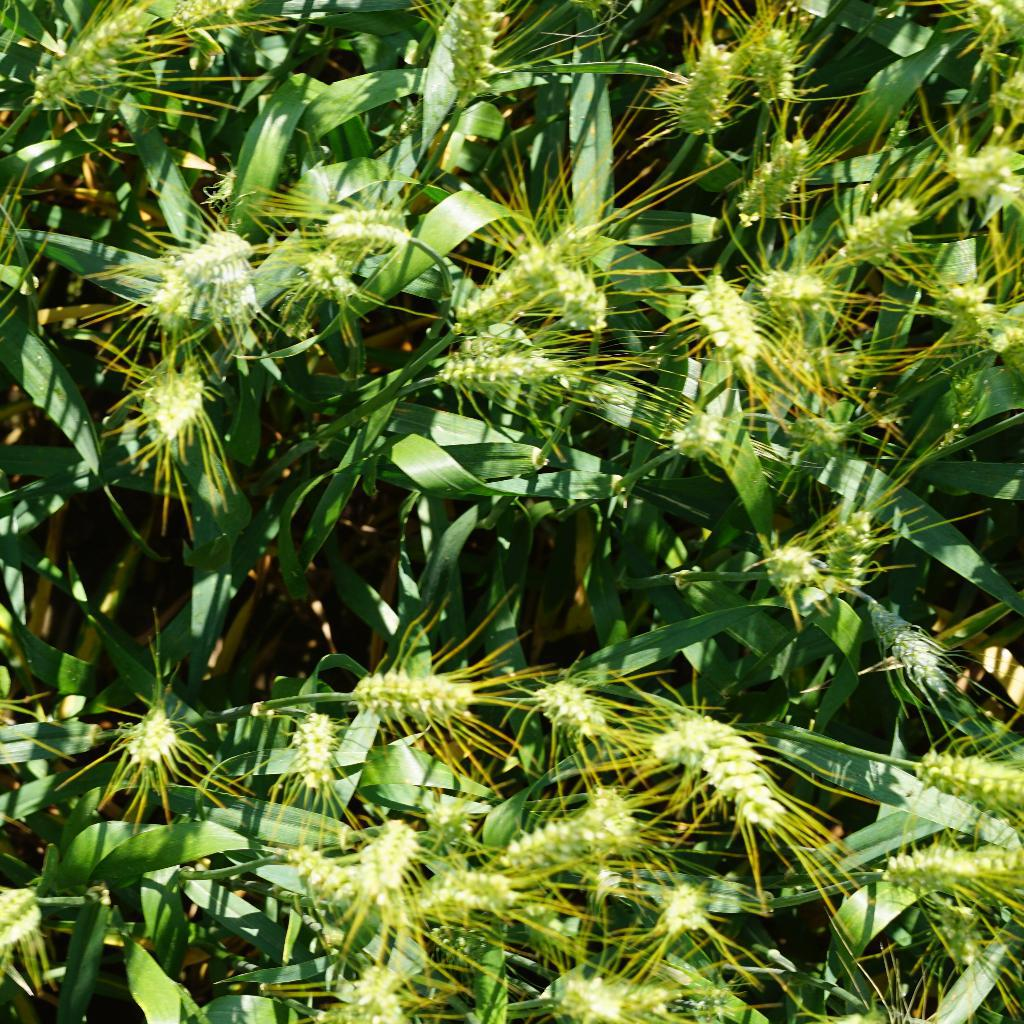0-0: (442, 222, 586, 340), (18, 0, 157, 118), (695, 718, 795, 840), (489, 796, 641, 872), (330, 658, 494, 728), (273, 851, 400, 930), (682, 266, 770, 379), (901, 740, 1024, 820), (514, 245, 606, 351), (715, 333, 871, 393), (728, 135, 813, 242), (862, 593, 948, 696), (669, 44, 743, 162), (824, 196, 929, 277), (403, 350, 580, 395), (449, 0, 504, 125), (815, 509, 881, 608), (634, 708, 731, 775), (920, 889, 991, 976), (870, 845, 996, 894), (313, 206, 431, 257), (181, 227, 266, 296), (138, 362, 205, 449), (518, 681, 618, 739), (419, 918, 500, 983), (749, 261, 842, 316), (943, 132, 1012, 206), (425, 869, 529, 918), (408, 787, 480, 856), (745, 21, 798, 114), (163, 0, 268, 43), (362, 815, 418, 895), (290, 710, 342, 794), (0, 887, 52, 969), (119, 709, 185, 771), (654, 409, 731, 460), (553, 975, 630, 1024), (348, 962, 410, 1021), (294, 250, 361, 303), (677, 972, 745, 1024), (936, 278, 998, 334), (776, 411, 847, 456), (752, 548, 826, 591), (660, 879, 708, 933)
